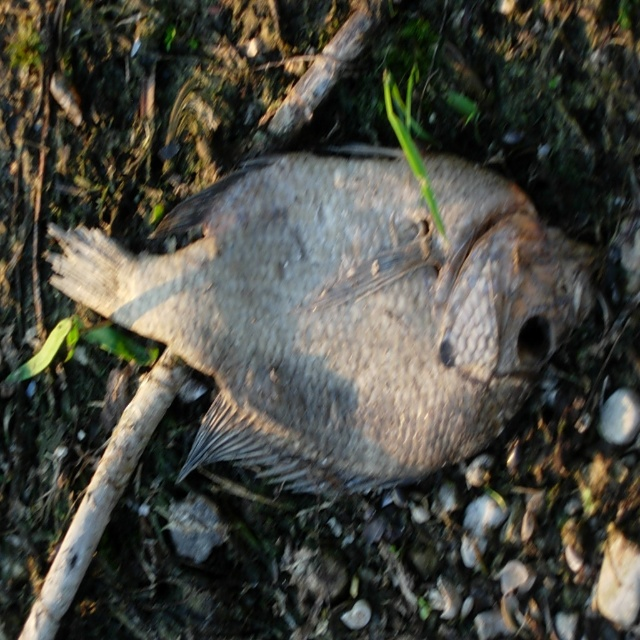Fish: (37, 158, 592, 512)
